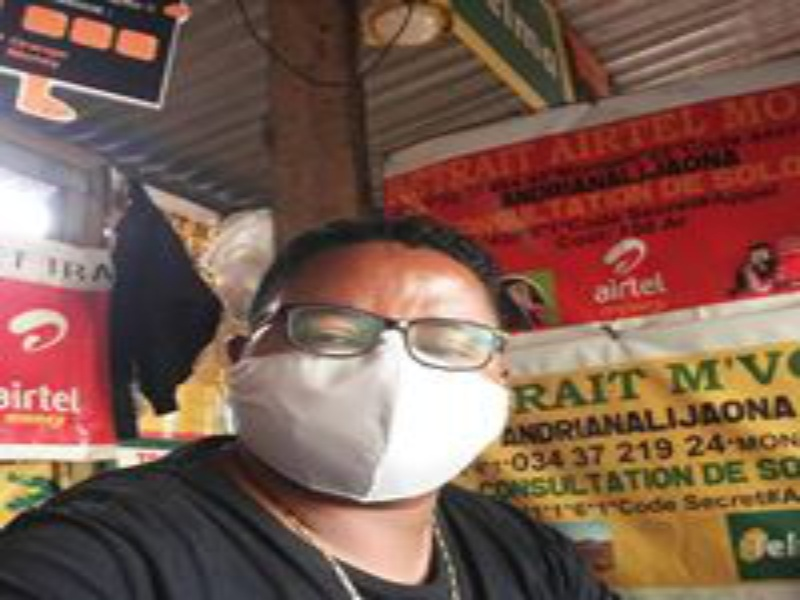ManaoArotava: (218, 202, 531, 535)
